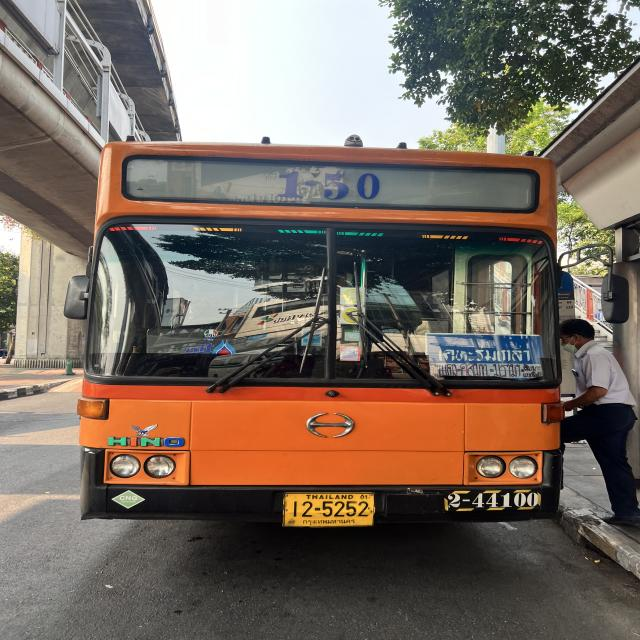BMTA-bus: (76, 142, 564, 531)
Bus-Line-Number: (269, 165, 388, 202)
Destination-Sign-Normal: (424, 333, 547, 381)
